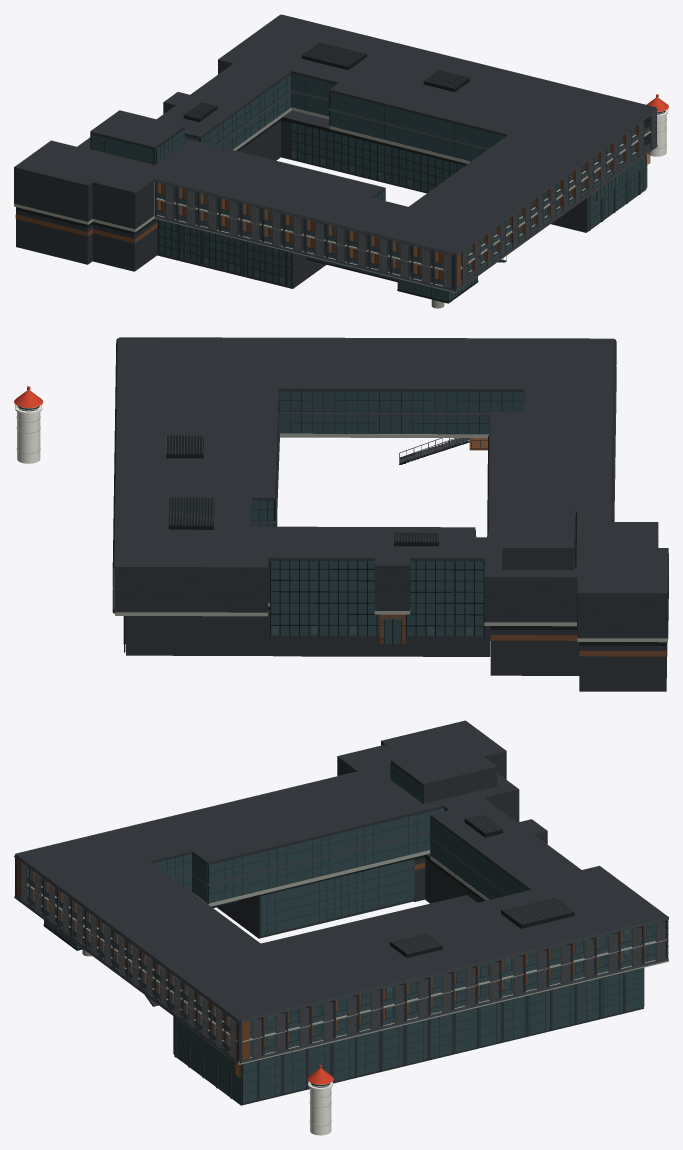
The model's file is farris-bad-near.glb.
3 renders of one model, top to bottom at view 1: azimuth 30°, elevation 25°; view 2: azimuth 150°, elevation 25°; view 3: azimuth 270°, elevation 25°, orthographic. The views are drawn at different scales.
Visible parts, largest first — view 1: farris-bad-0-stone, farris-bad-0-glass, farris-bad-0-frame, farris-bad-0-metal, farris-bad-0-wood, farris-bad-0-concrete, farris-bad-0-pale, farris-bad-0-glow; view 2: farris-bad-0-stone, farris-bad-0-glass, farris-bad-0-frame, farris-bad-0-concrete, farris-bad-0-metal, farris-bad-0-wood, farris-bad-0-pale; view 3: farris-bad-0-stone, farris-bad-0-glass, farris-bad-0-metal, farris-bad-0-frame, farris-bad-0-concrete, farris-bad-0-wood, farris-bad-0-pale.
Boxes of the visible parts, x1=… form: farris-bad-0-stone: x1=14, y1=14, x2=657, y2=291; farris-bad-0-glass: x1=91, y1=73, x2=665, y2=301; farris-bad-0-frame: x1=14, y1=42, x2=664, y2=303; farris-bad-0-metal: x1=157, y1=42, x2=656, y2=288; farris-bad-0-wood: x1=15, y1=113, x2=654, y2=287; farris-bad-0-concrete: x1=14, y1=107, x2=666, y2=308; farris-bad-0-pale: x1=648, y1=109, x2=668, y2=156; farris-bad-0-glow: x1=181, y1=128, x2=645, y2=283; farris-bad-0-stone: x1=112, y1=337, x2=668, y2=691; farris-bad-0-glass: x1=18, y1=391, x2=576, y2=643; farris-bad-0-frame: x1=17, y1=391, x2=668, y2=652; farris-bad-0-concrete: x1=16, y1=416, x2=668, y2=642; farris-bad-0-metal: x1=112, y1=347, x2=616, y2=609; farris-bad-0-wood: x1=380, y1=438, x2=667, y2=656; farris-bad-0-pale: x1=15, y1=404, x2=42, y2=463; farris-bad-0-stone: x1=14, y1=720, x2=668, y2=1105; farris-bad-0-glass: x1=23, y1=763, x2=661, y2=1103; farris-bad-0-metal: x1=20, y1=814, x2=665, y2=1059; farris-bad-0-frame: x1=27, y1=755, x2=668, y2=1103; farris-bad-0-concrete: x1=26, y1=808, x2=668, y2=1126; farris-bad-0-wood: x1=17, y1=860, x2=664, y2=1078; farris-bad-0-pale: x1=308, y1=1081, x2=332, y2=1135.
Size of the model in its own units: 112 by 17.8 by 95.62.
